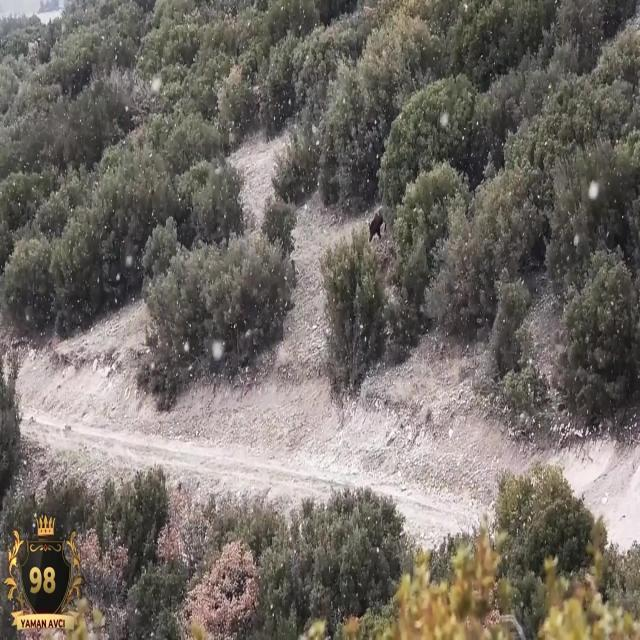pig: (364, 202, 389, 244)
